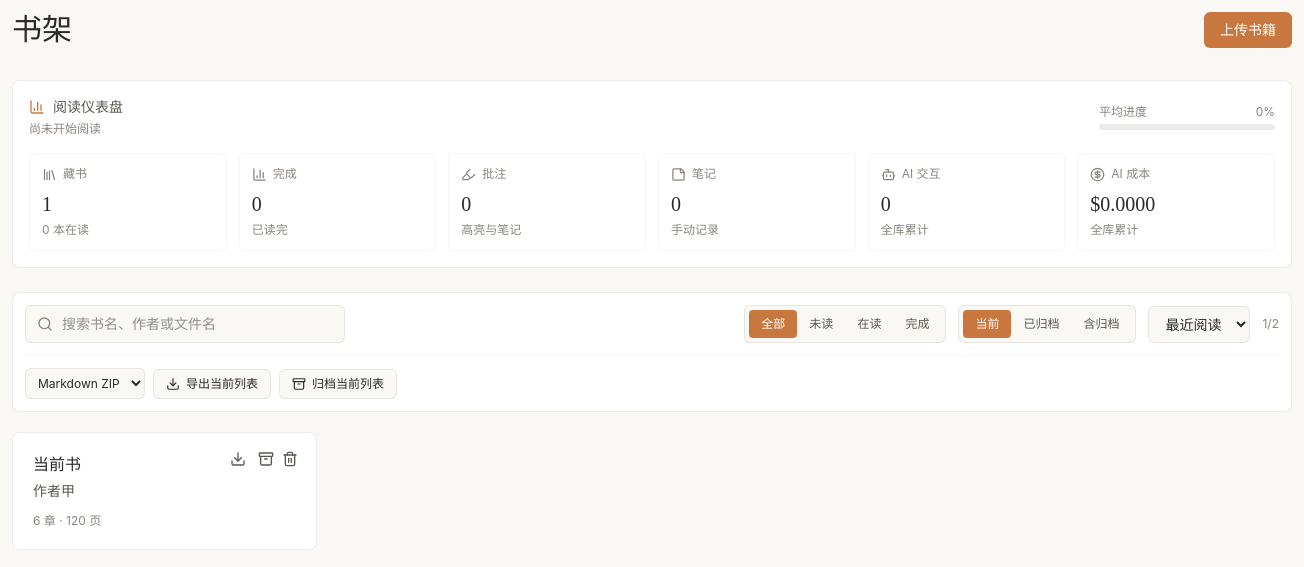
Test: BookList › refreshes the current view after a successful delete
Click the button named "删除书籍" at (290, 459), box [276,445,304,473]
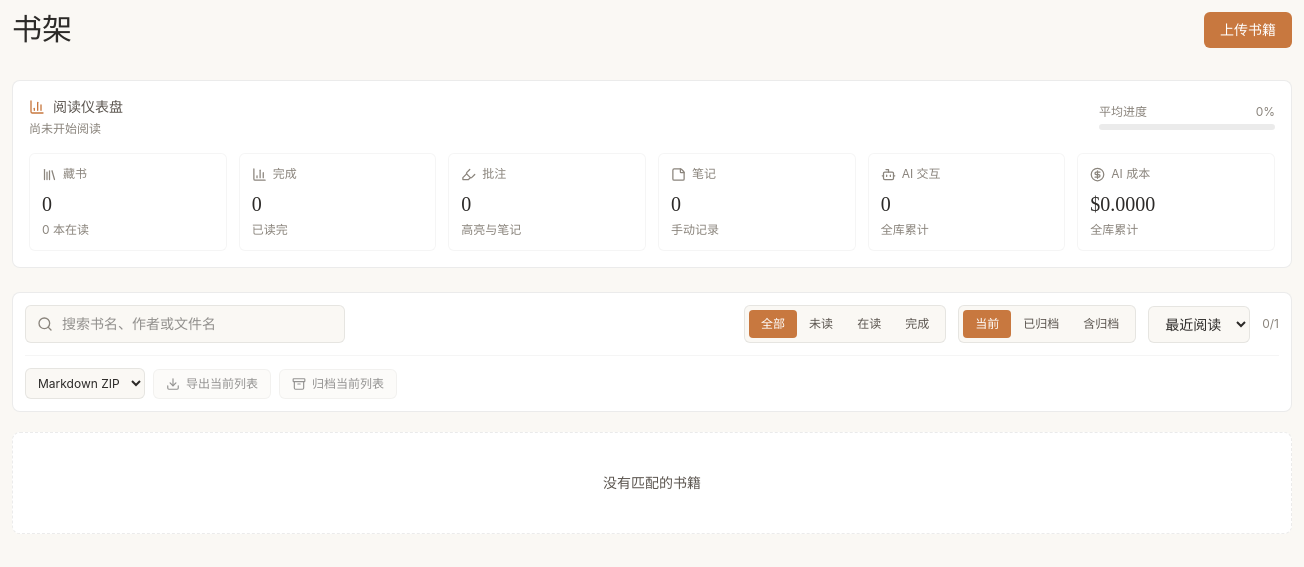
Expected: the link "当前书" is gone
Expected: the message reads "0/1", [1262,316,1279,332]
